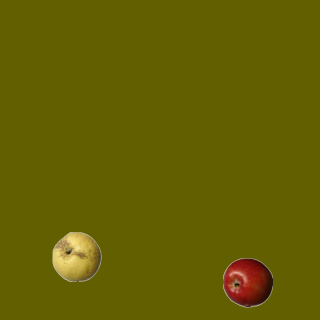Apple Braeburn: (222, 257, 272, 307)
Apple Golden 1: (51, 231, 101, 281)
